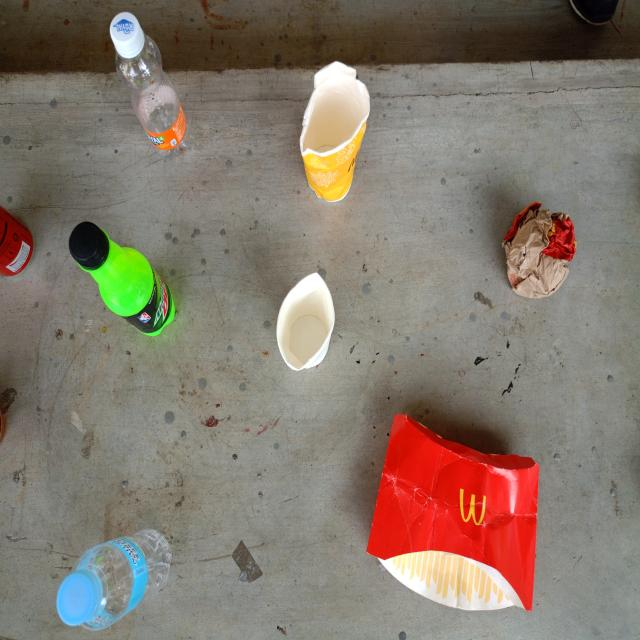Anorganik: (66, 217, 176, 342), (54, 526, 174, 640), (107, 6, 189, 160), (0, 196, 36, 290)
Organik: (362, 407, 542, 624), (300, 59, 372, 209), (500, 196, 579, 302), (272, 270, 338, 374)
